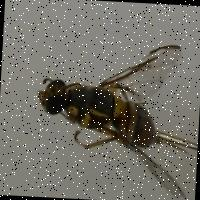Oriental-fruit-fly: (30, 38, 194, 185)
